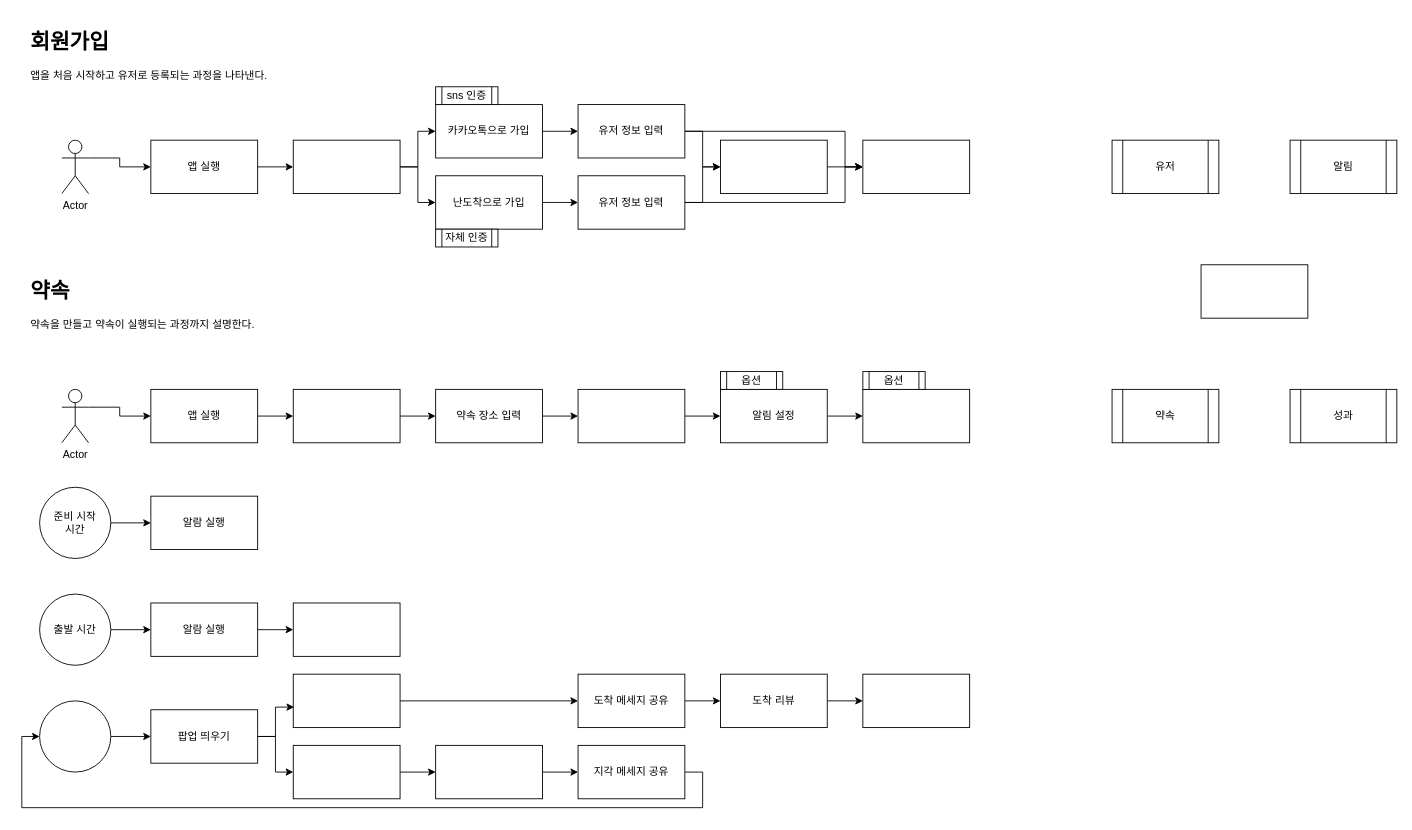
This 1412x830 diagram has some shape labels left out. Each missing label, with the centre of its shape:
"개인 성향 측정" goes at point 773,166.
"늦었어" goes at point 346,771.
"늦은 이유 수집" goes at point 488,771.
"도장 모음" goes at point 916,700.
"도착" goes at point 75,736.
"로그인" goes at point 346,166.
"약속 공유 (친구와 약속 공유하기)" goes at point 916,415.
"약속 만들기 실행" goes at point 346,415.
"약속 및 도착 위치 안내" goes at point 346,629.
"약속 시간 입력" goes at point 631,415.
"잘 도착했어" goes at point 346,700.
"회원가입 완료" goes at point 916,166.
